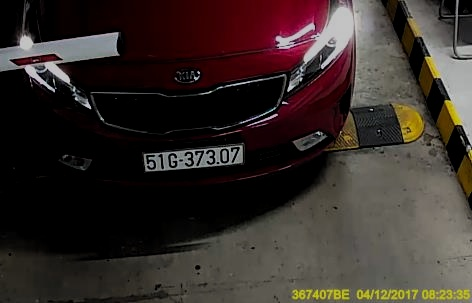plate: (139, 145, 245, 175)
